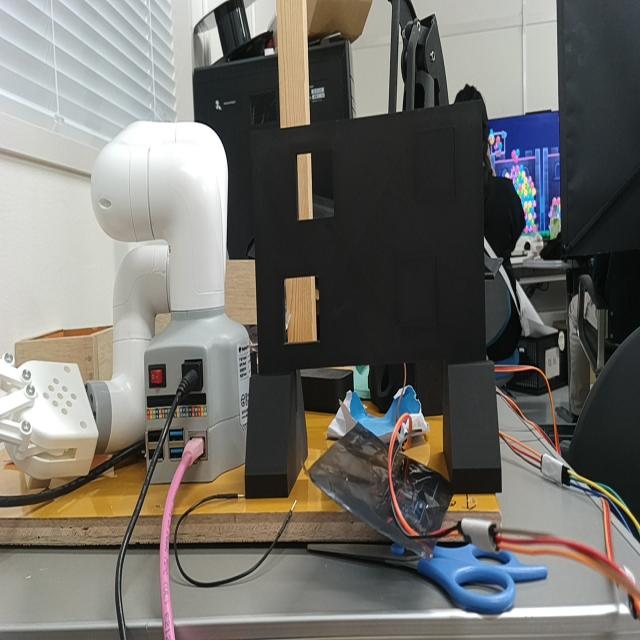Obstacle: (283, 275, 323, 345), (298, 150, 335, 220)
Wall: (252, 100, 485, 375)
